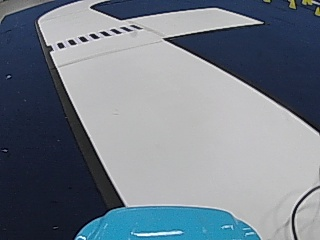CrossWalk: (54, 25, 141, 51)
